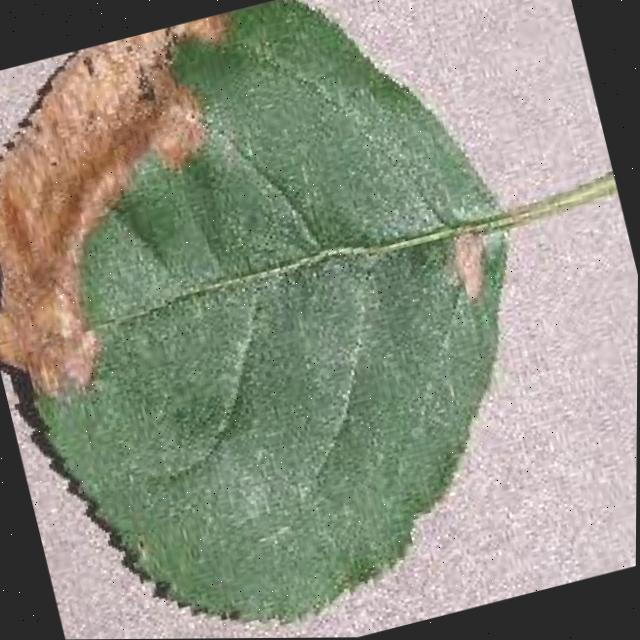black_rot: (0, 9, 320, 430), (432, 216, 510, 312)
